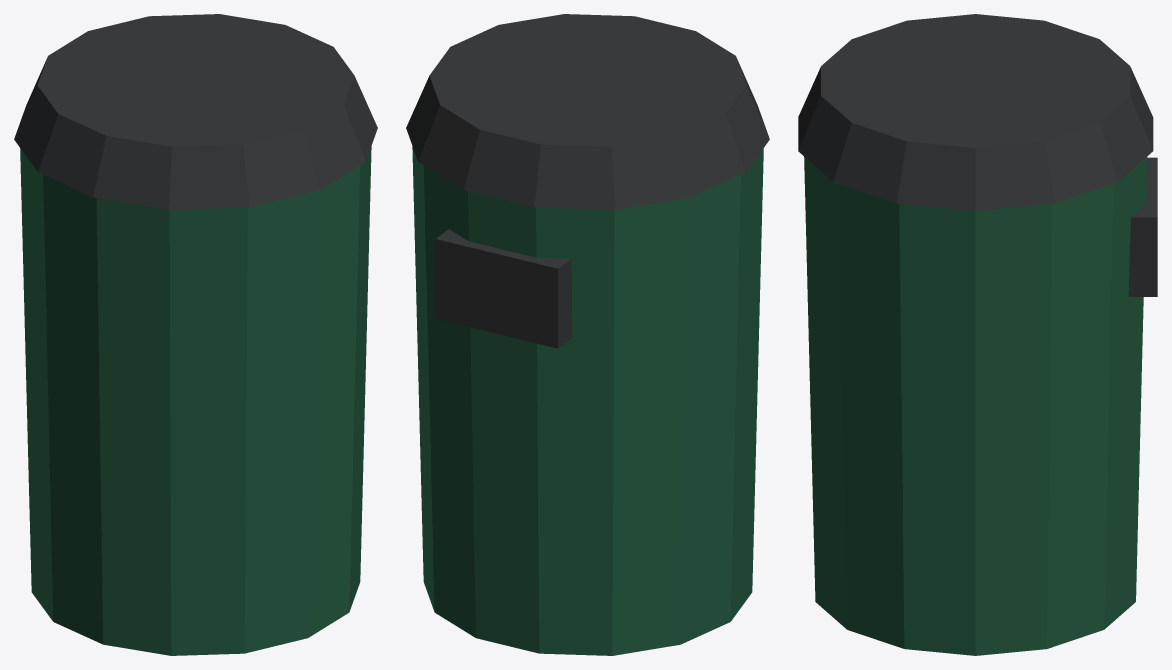
Rendered from prop_trash_can.gltf.
3 views of the same model, side by side, from view 1: azimuth 30°, elevation 25°; view 2: azimuth 150°, elevation 25°; view 3: azimuth 270°, elevation 25° (orthographic).
Visible parts, largest first — view 1: prop_trash_can; view 2: prop_trash_can; view 3: prop_trash_can.
Part boxes in pixels (left/top/right/bottom): prop_trash_can: left=14, top=14, right=377, bottom=655; prop_trash_can: left=406, top=14, right=769, bottom=655; prop_trash_can: left=798, top=14, right=1157, bottom=655.
Size of what is drawn, in the model's own units: 0.62 by 0.95 by 0.6122.
